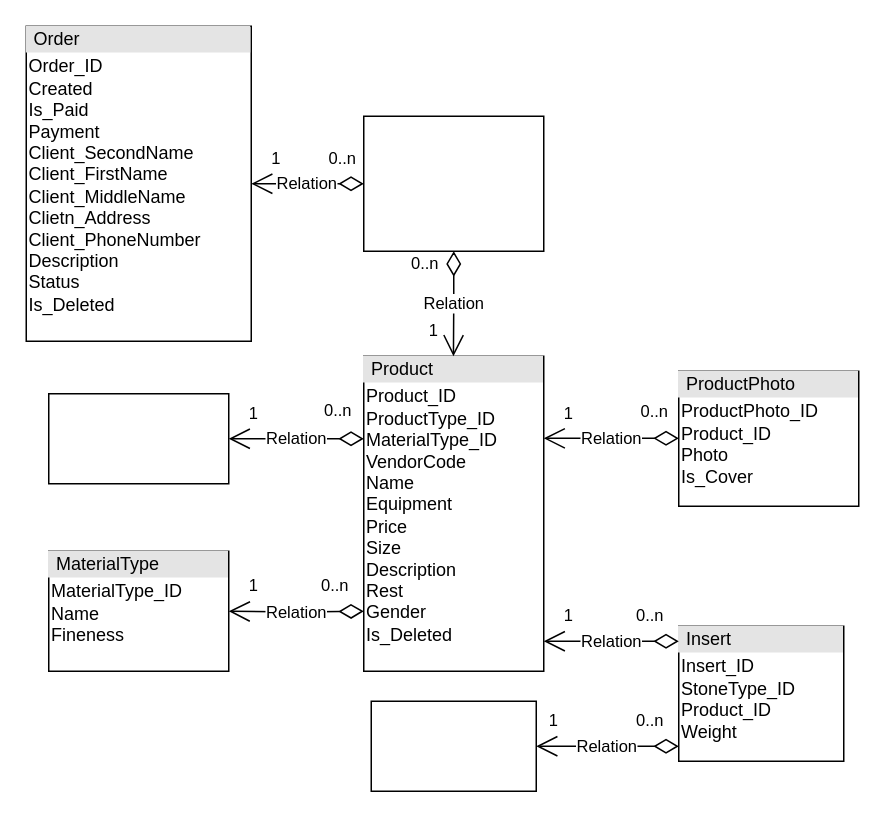
This 885x818 diagram has some shape labels left out. Here are the shapes that lost their labels. From the top down, the centre of each, then its label:
At pixel 453 183: "OrderProduct OrderProduct_ID Order_ID Product_ID Product_count".
At pixel 138 438: "ProductType ProductType_ID Name".
At pixel 453 745: "StoneType StoneType_ID Name".
